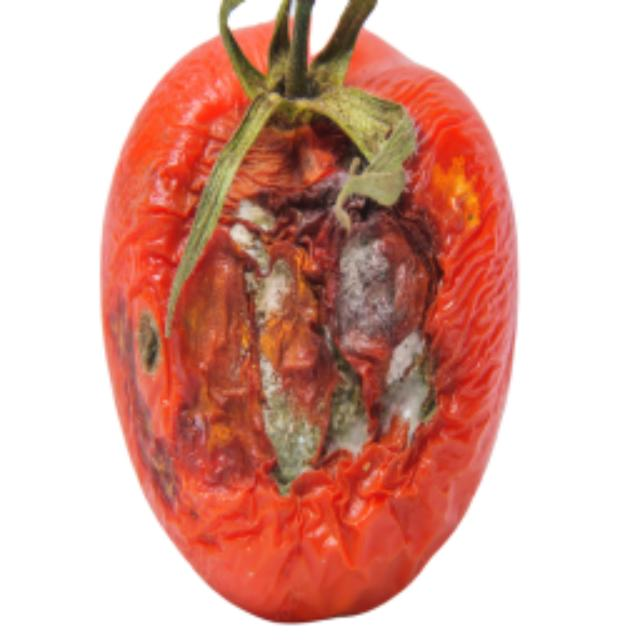defect: (84, 24, 529, 628)
